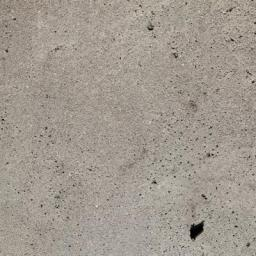FOD: (188, 221, 210, 243)
